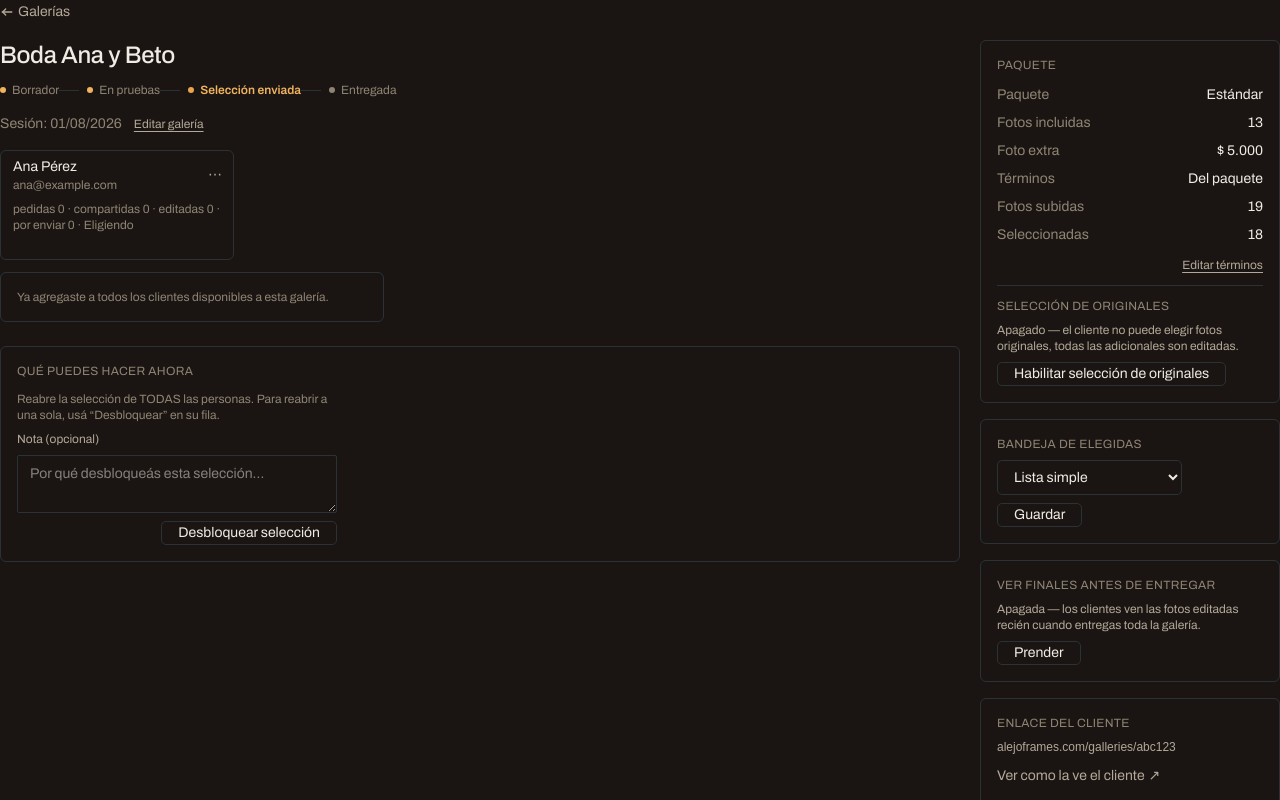
Test: GalleryDetailPage — terms-edit preview receives the real edited/original split (task #210) › shows a surcharge in the terms-edit preview that prices in at least one already-selected original
Click the button "Editar términos".
click(1223, 265)  # box [1182, 257, 1263, 273]
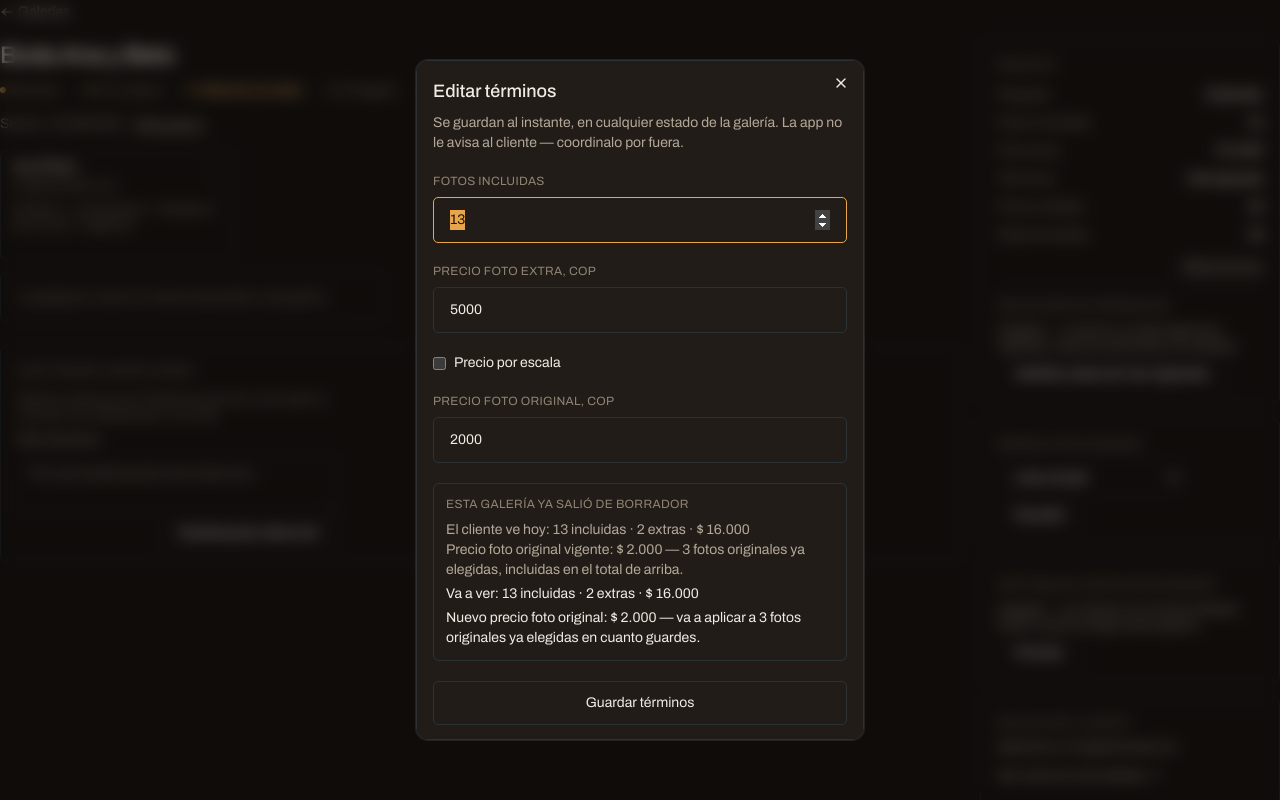
Expected: the text "El cliente ve hoy: 13 incluidas · 2 extras · $ 16.000" is shown, [446, 522, 750, 537]
